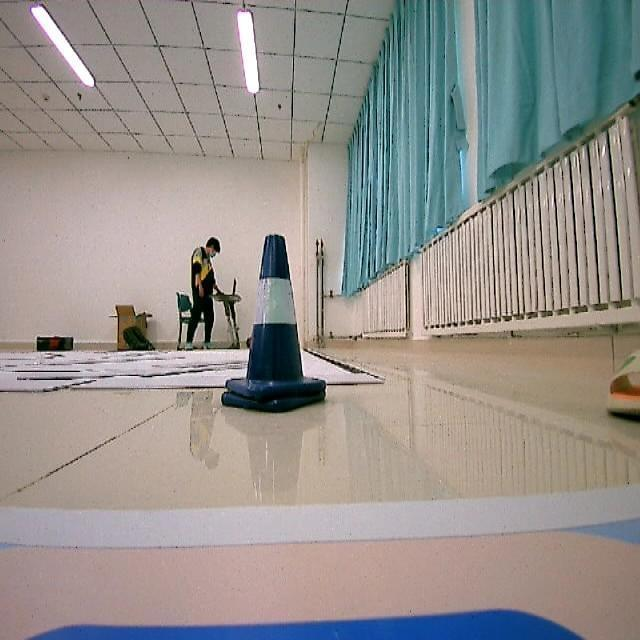obstacle: (225, 227, 332, 419)
